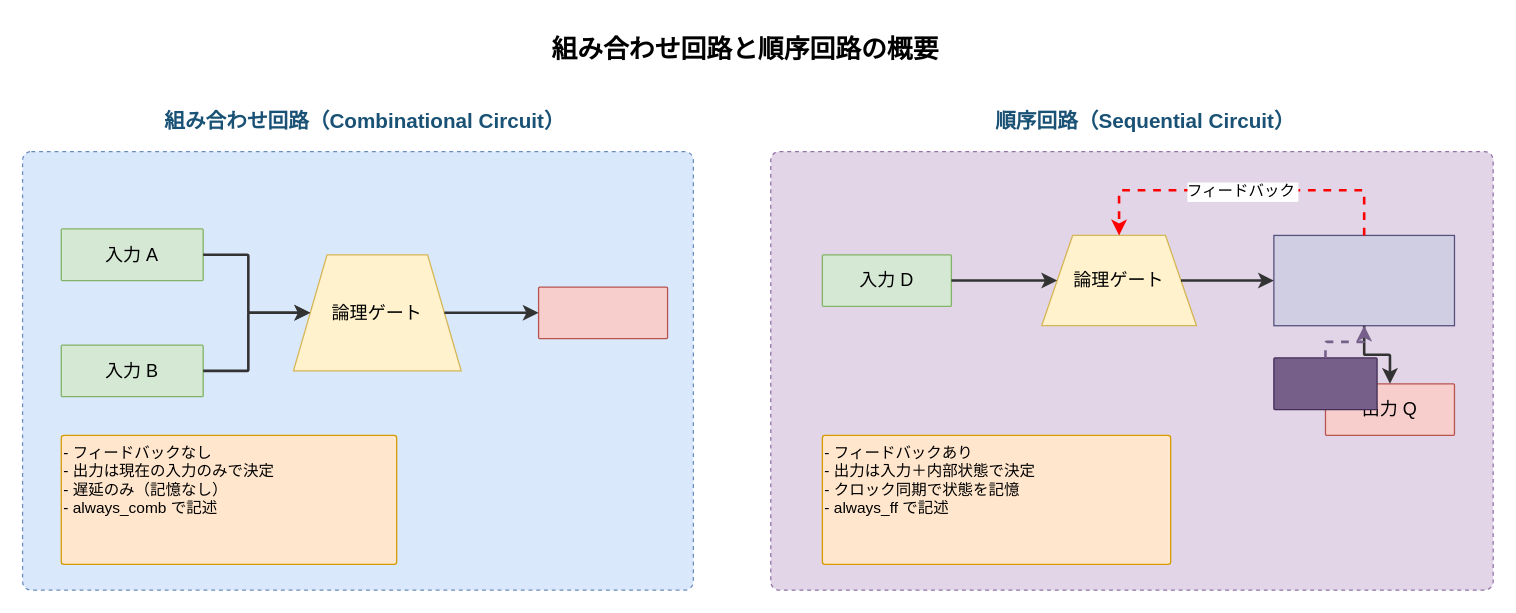
Some shapes in this 1516 by 613 pixel diagram are drawn without their labels. Here are the shapes that lost their labels. From the top down, the box of each, then its label:
(1273, 234, 1454, 326): FF (フリップフロップ)
(537, 286, 668, 339): 出力 Y
(1273, 357, 1377, 410): CLK
